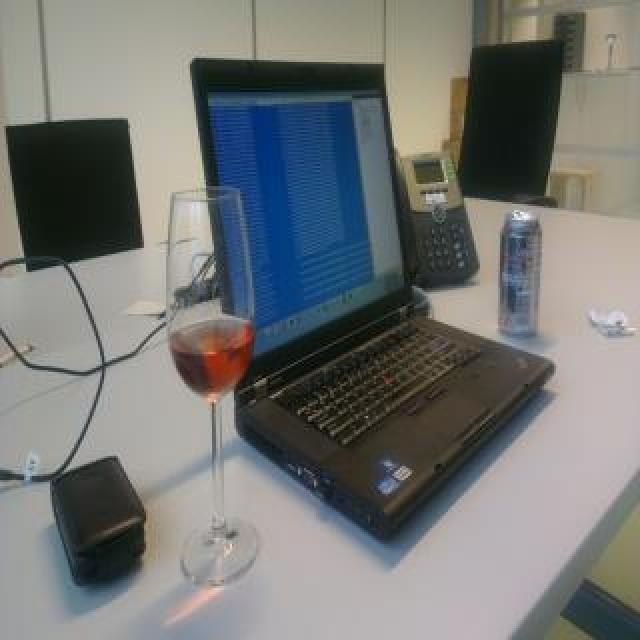laptop_computer: (185, 45, 539, 508)
